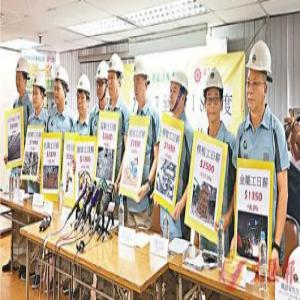white: (245, 42, 274, 113), (204, 68, 225, 123), (169, 67, 189, 115), (133, 57, 152, 103), (108, 53, 125, 98), (54, 65, 71, 106), (77, 75, 92, 117), (15, 58, 30, 95), (32, 73, 47, 110), (96, 60, 108, 103)
